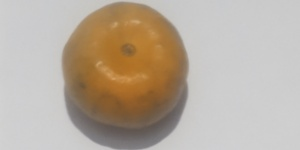BAD: (60, 1, 187, 130)
